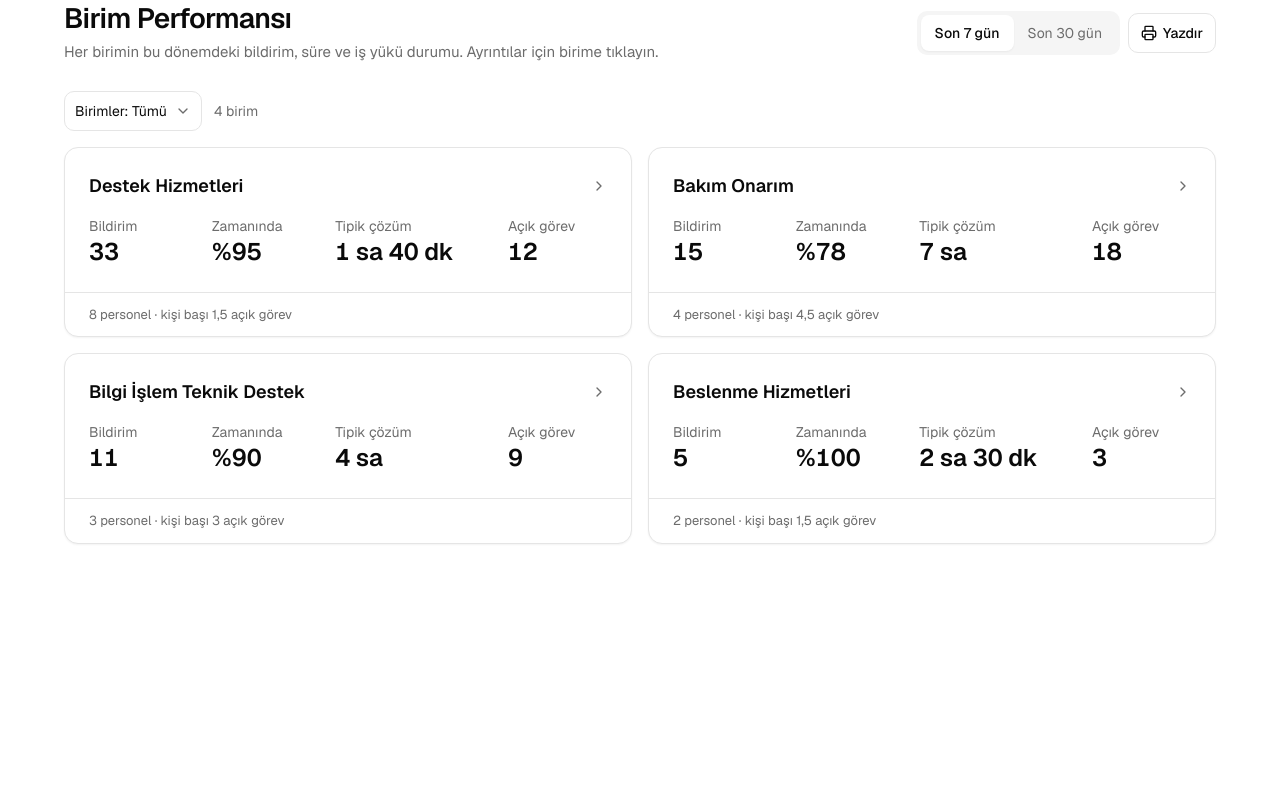
Test case: DepartmentPerformance › narrows the cards to the ticked units
The width and height of the screenshot is (1280, 800).
Expected: the list named "Birimler" is shown, [64,147,1216,544]
Click the button "Birimler: Tümü": [133, 111] box [64,91,202,131]
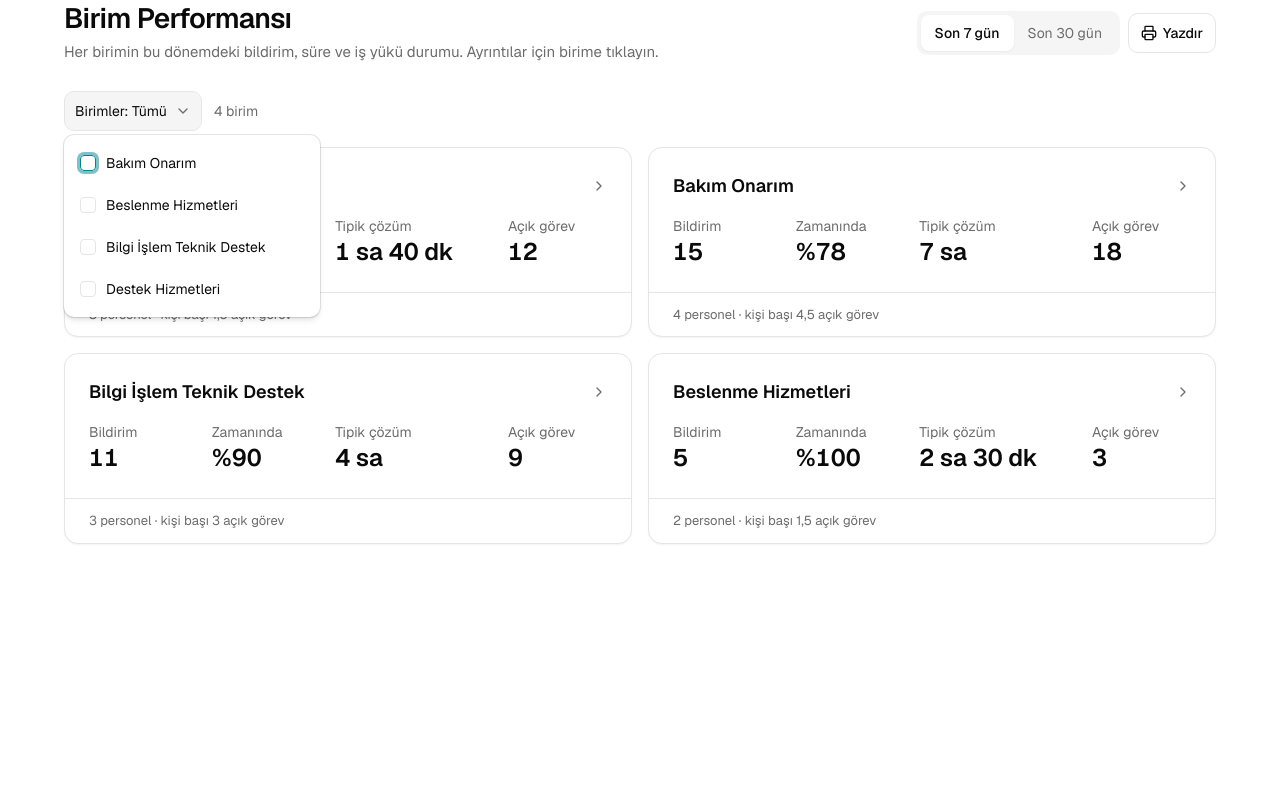
Click the 1st checkbox named "Bakım Onarım": [88, 163] box [80,155,96,171]
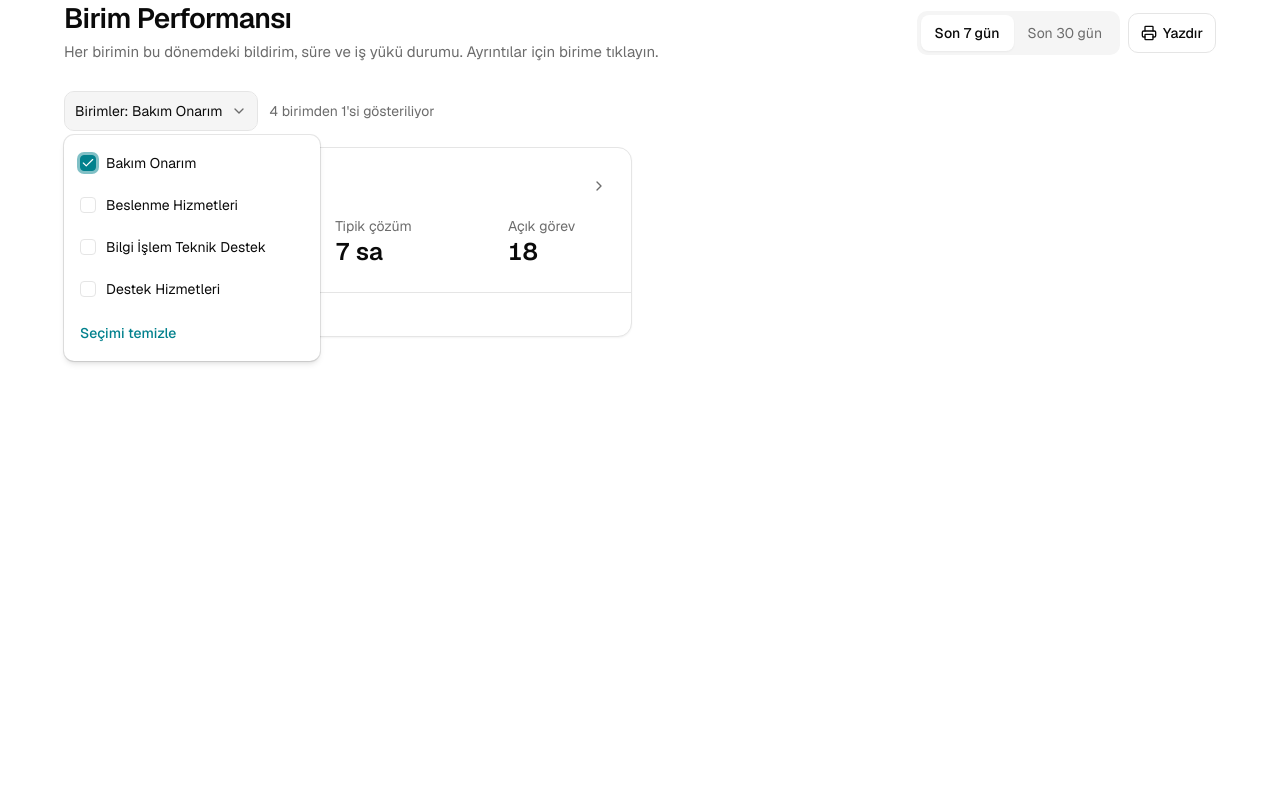
Expected: the number of list items is 1, [64,147,632,337]
Expected: the button "Birimler: Bakım Onarım" is shown, [64,91,258,131]
Expected: the text "4 birimden 1'si gösteriliyor" is shown, [270,101,434,121]
